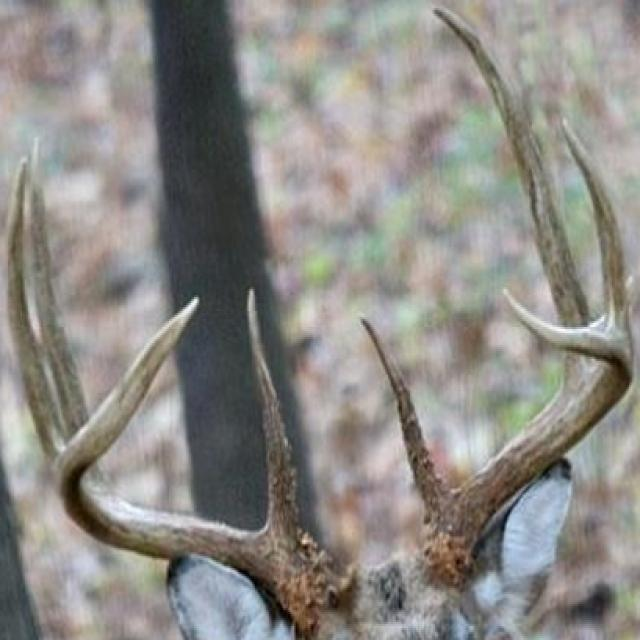L-F: (416, 287, 634, 590)
L-G1: (357, 314, 450, 520)
L-G3: (560, 116, 633, 344)
R-F: (52, 293, 356, 640)
R-G1: (246, 286, 302, 540)
